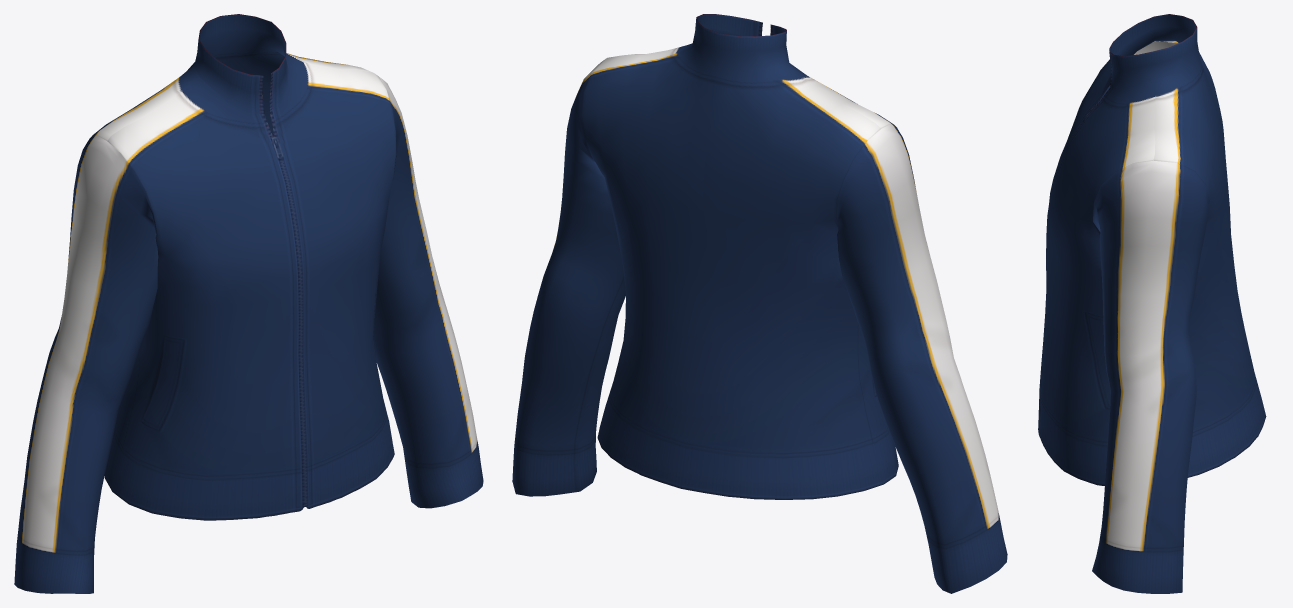
File: 14_longsleeve_a.glb
3 renders of one model, left to right at view 1: azimuth 30°, elevation 25°; view 2: azimuth 150°, elevation 25°; view 3: azimuth 270°, elevation 25°, orthographic. The views are drawn at different scales.
Parts seen in each view (by area): view 1: longsleeve_apose; view 2: longsleeve_apose; view 3: longsleeve_apose.
Part boxes in pixels (left/top/right/bottom): longsleeve_apose: left=14, top=14, right=483, bottom=593; longsleeve_apose: left=512, top=14, right=1007, bottom=593; longsleeve_apose: left=1038, top=14, right=1266, bottom=593.
Bounding box in the file's own units: 0.9064 × 0.9456 × 0.4389.
Materials: 1 (1 with a texture image).
